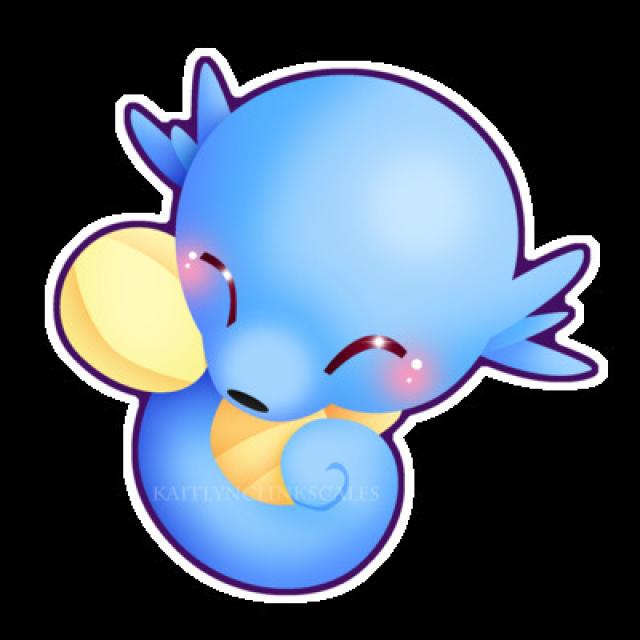Horsea: (46, 46, 587, 606)
